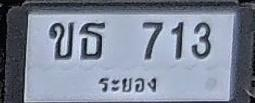1: (171, 21, 184, 59)
3: (191, 21, 211, 58)
7: (142, 21, 163, 59)
A02: (49, 21, 74, 59)
A24: (80, 21, 106, 59)
RYG: (96, 73, 160, 96)
